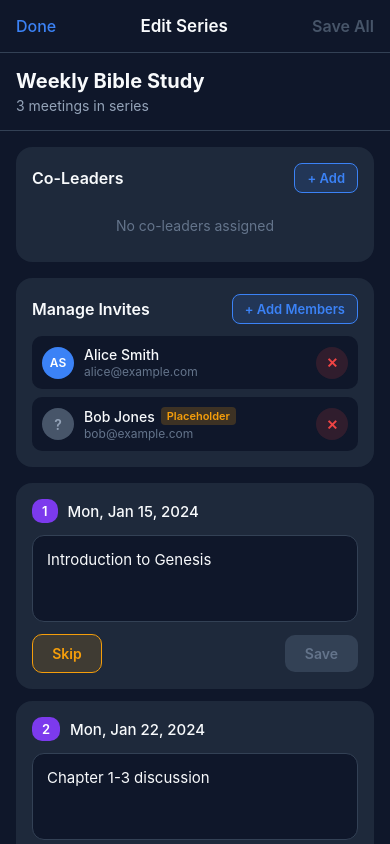
MeetingSeriesEditorModal › should show unsaved badge when description is modified
Step 1. Replace the text in the text box showing "Introduction to Genesis" below "Mon, Jan 15, 2024" with "Modified description" → (195, 578), box [32,535,358,622]
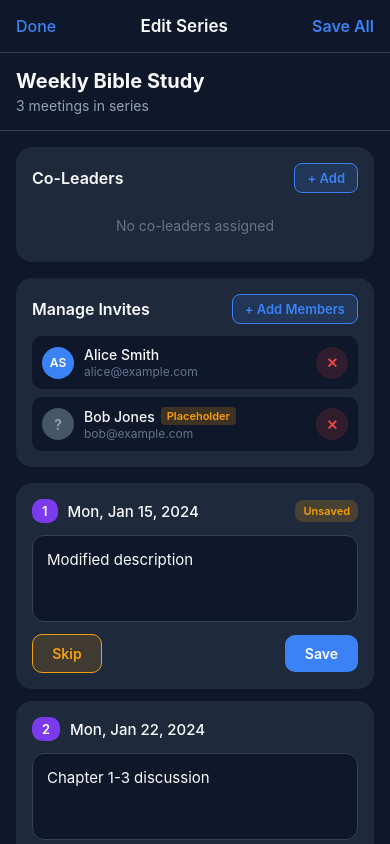
Expected: the text "Unsaved" is shown, [303,504,350,518]
